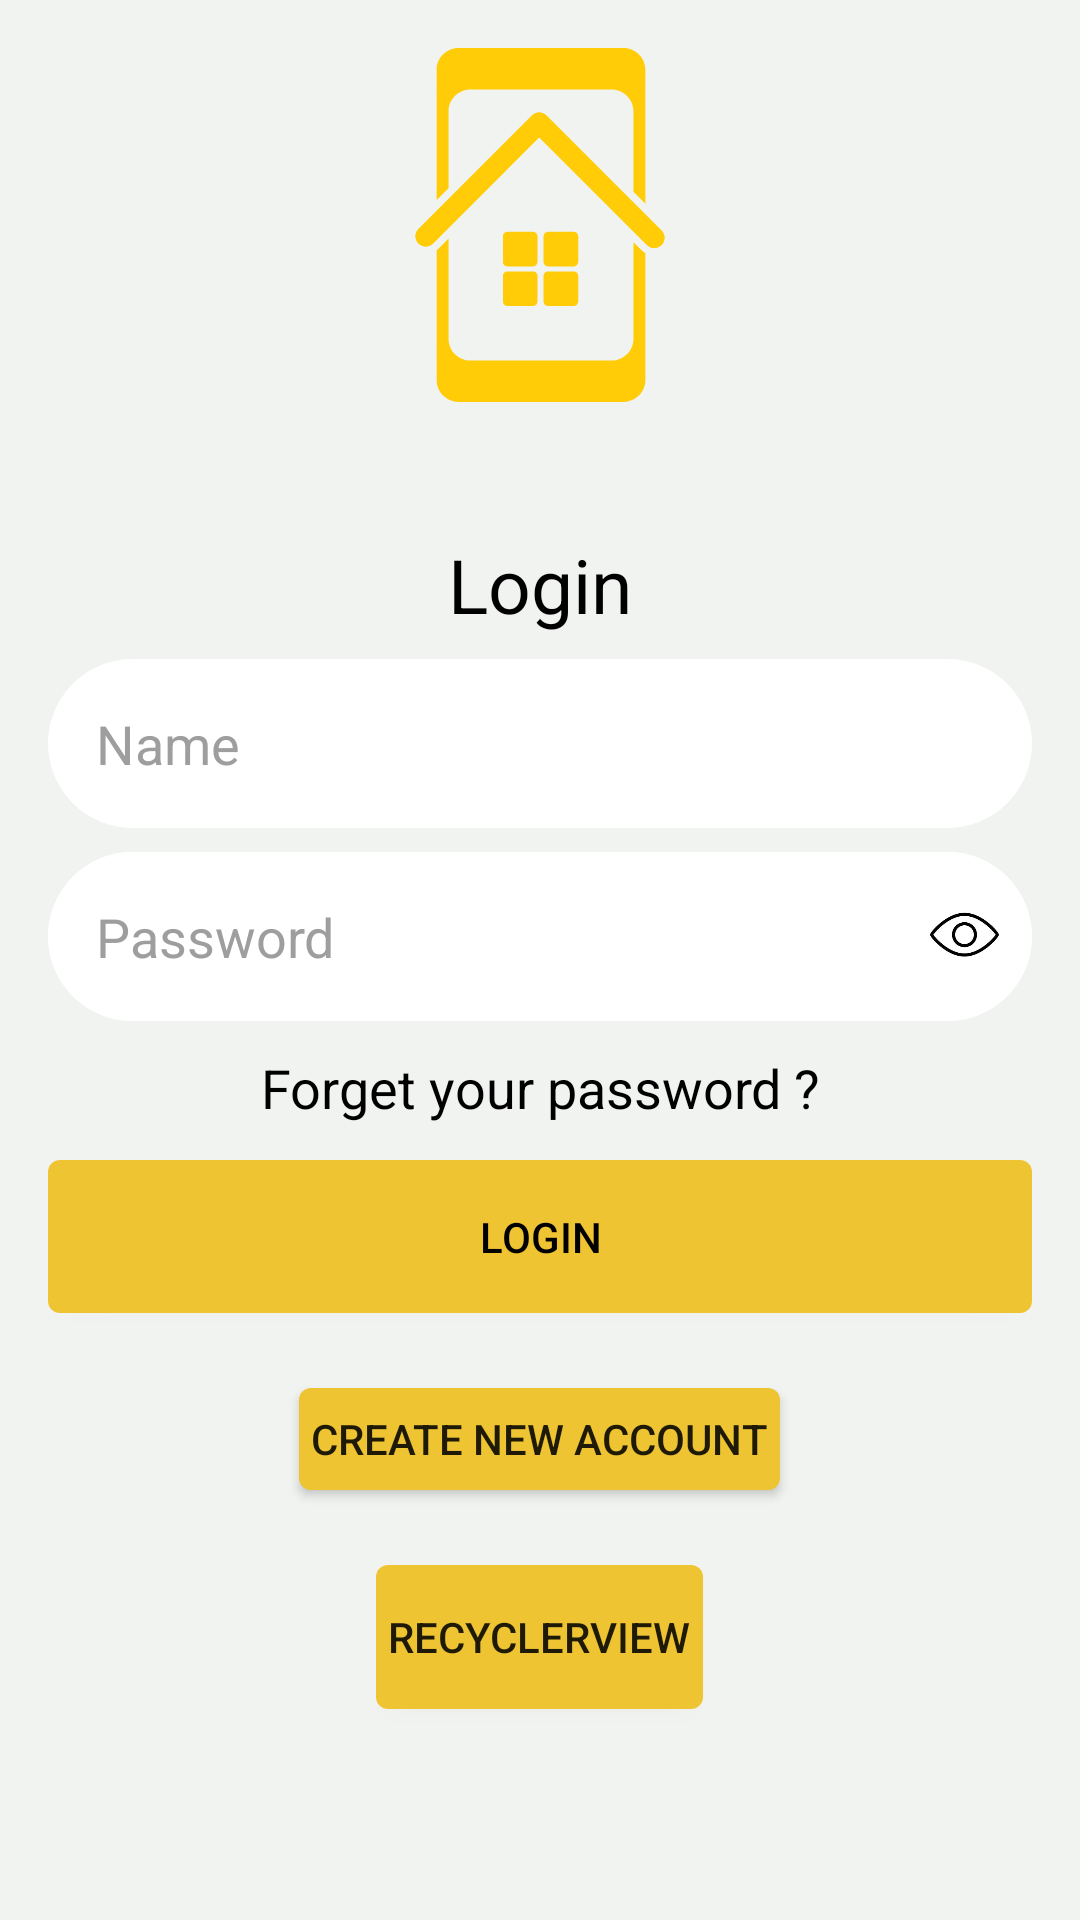

Point at icon controls on the screen. Image size 1080 × 1920, points as point (x, y).
eye show: point (964, 934)
